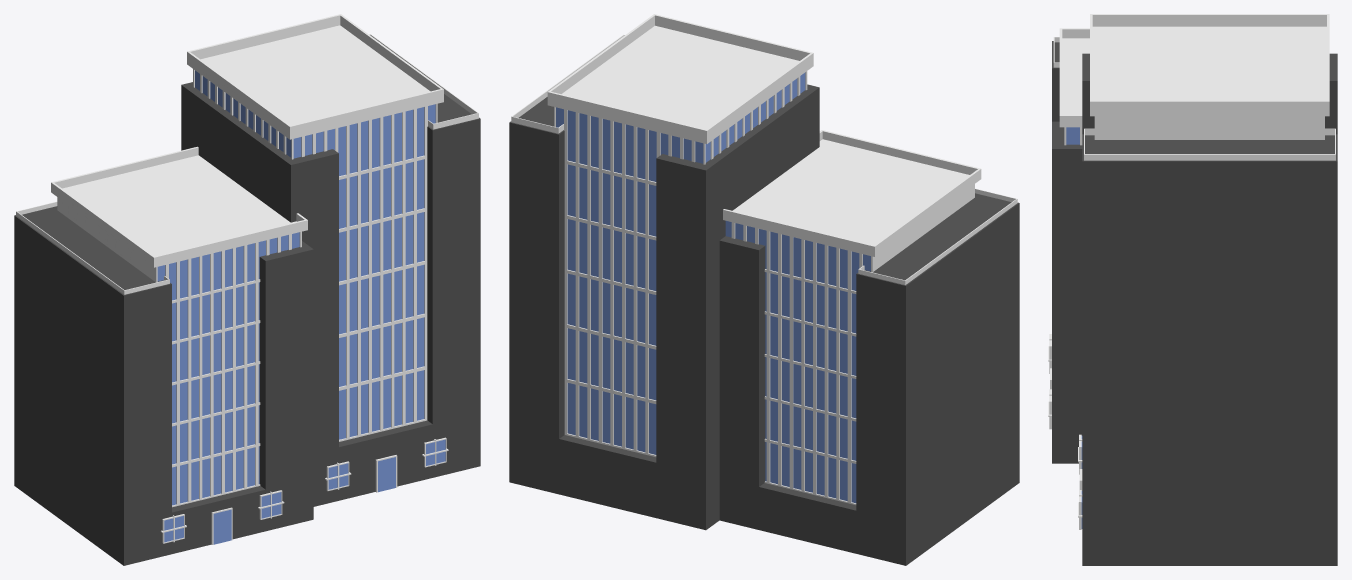
File: Building.fbx
3 renders of one model, left to right at view 1: azimuth 30°, elevation 25°; view 2: azimuth 150°, elevation 25°; view 3: azimuth 270°, elevation 25°, orthographic. The views are drawn at different scales.
Visible parts, largest first — view 1: Plane, Plane.001, Window, Plane.004; view 2: Plane, Plane.001, Window; view 3: Plane, Plane.001, Plane.004.
Boxes of the visible parts, x1=… form: Plane: x1=14, y1=34, x2=480, y2=565; Plane.001: x1=51, y1=14, x2=443, y2=507; Window: x1=157, y1=70, x2=435, y2=505; Plane.004: x1=160, y1=437, x2=448, y2=544; Plane: x1=509, y1=34, x2=1019, y2=565; Plane.001: x1=547, y1=14, x2=981, y2=504; Window: x1=556, y1=72, x2=870, y2=503; Plane: x1=1052, y1=37, x2=1337, y2=565; Plane.001: x1=1059, y1=14, x2=1329, y2=145; Plane.004: x1=1048, y1=334, x2=1082, y2=529.
Bounding box in the file's own units: 3.9 × 3.85 × 2.26.
